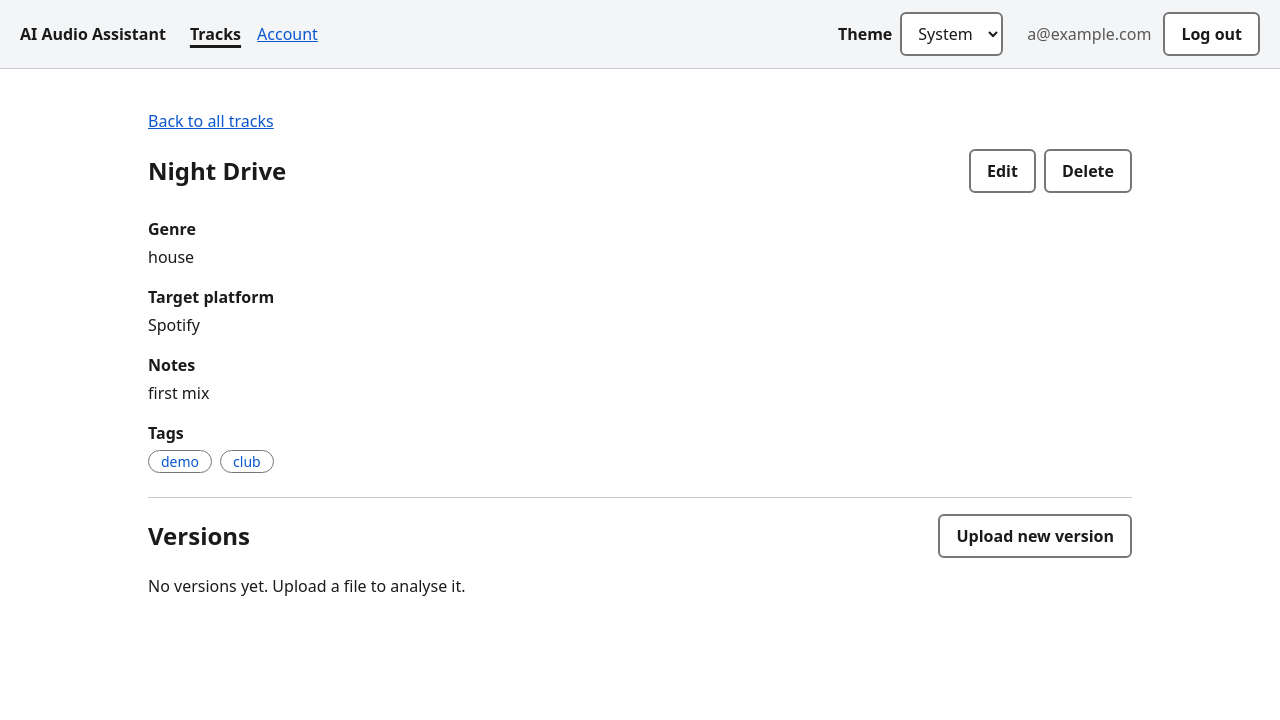
versions › opens the upload dialog from the Versions section
Expected: the text "No versions yet. Upload a file to analyse it." is shown, [148,575,466,597]
Click the button "Upload new version": coordinates (1035, 536) [938,514,1132,558]
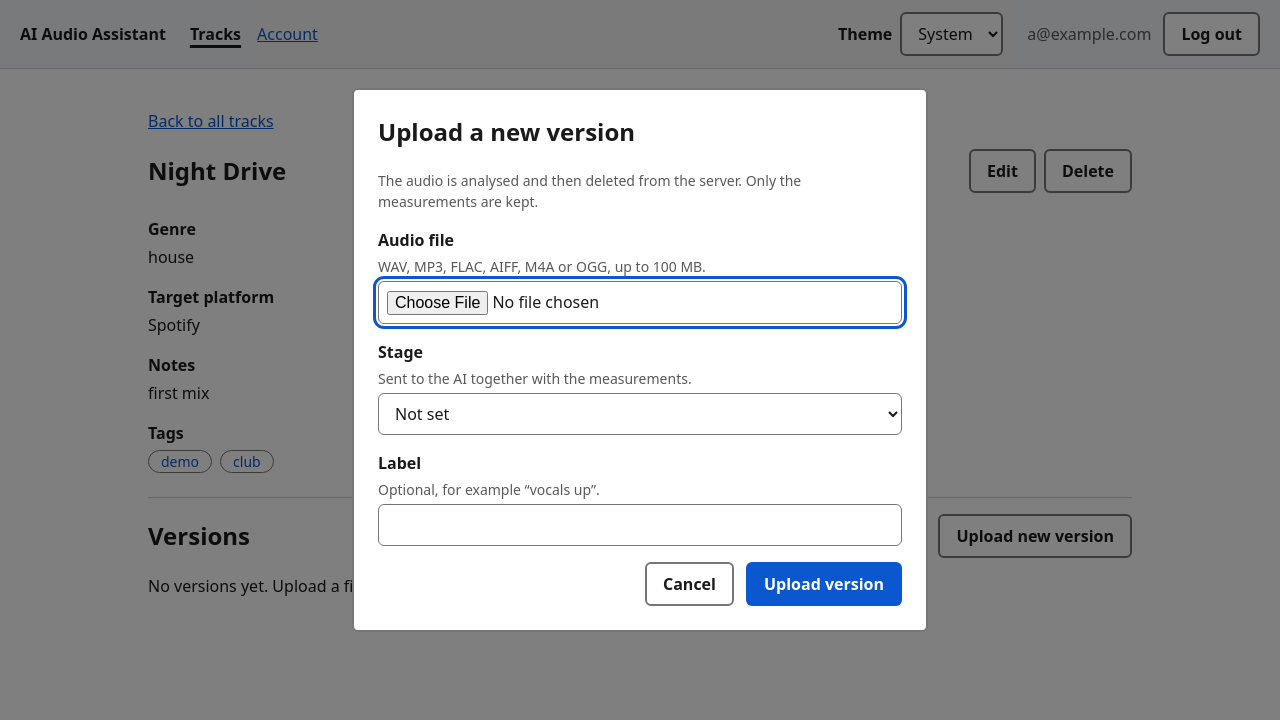
Expected: the dialog "Upload a new version" is shown, [352,88,928,632]
